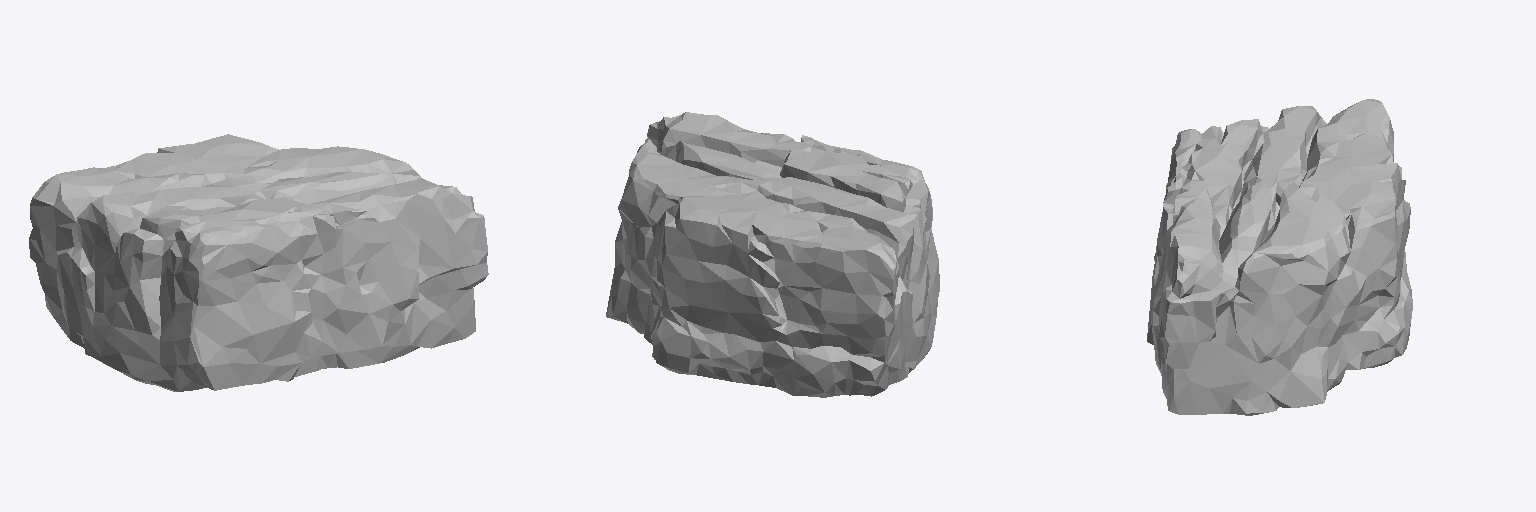
File: stone_4.obj
3 renders of one model, left to right at view 1: azimuth 30°, elevation 25°; view 2: azimuth 150°, elevation 25°; view 3: azimuth 270°, elevation 25°, orthographic.
Visible parts, largest first — view 1: Aset_nature_rock_M_uisjbbis_LOD3; view 2: Aset_nature_rock_M_uisjbbis_LOD3; view 3: Aset_nature_rock_M_uisjbbis_LOD3.
Boxes of the visible parts, box(x1,y1,x2,y2) form: Aset_nature_rock_M_uisjbbis_LOD3: box(29, 134, 488, 391); Aset_nature_rock_M_uisjbbis_LOD3: box(606, 112, 939, 397); Aset_nature_rock_M_uisjbbis_LOD3: box(1147, 99, 1412, 415).
Size of the model in its own units: 1.19 by 0.523 by 0.7822.